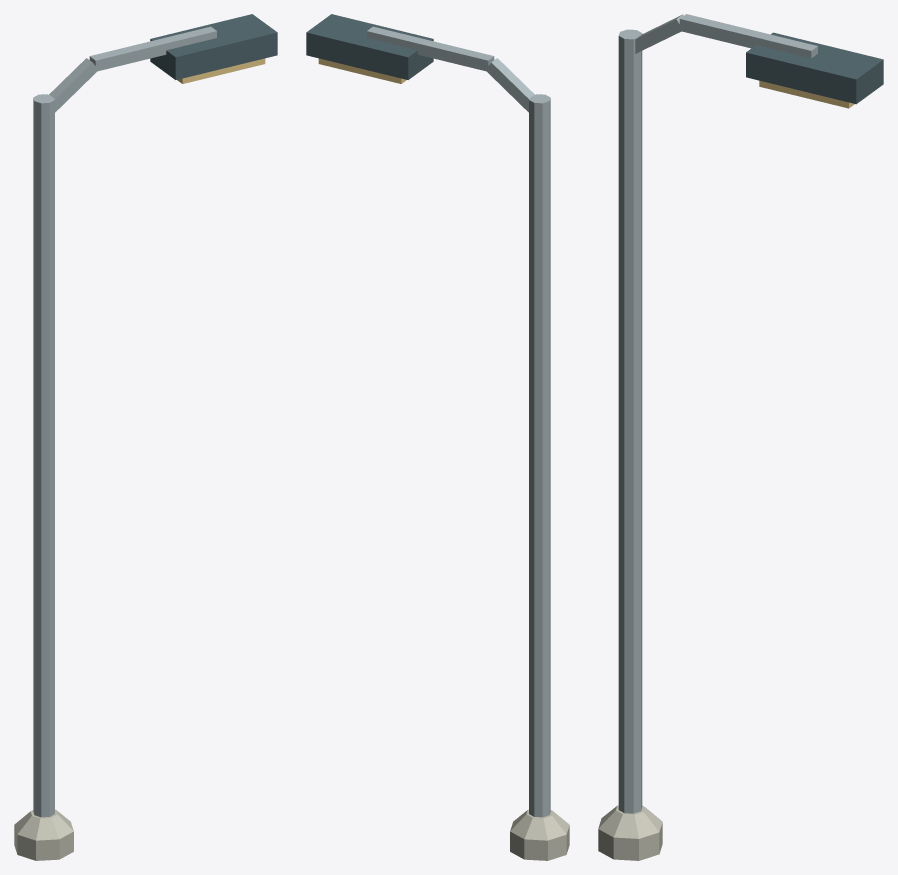
Rendered from KOL_HBR_PROP_02.fbx.
3 renders of one model, left to right at view 1: azimuth 30°, elevation 25°; view 2: azimuth 150°, elevation 25°; view 3: azimuth 330°, elevation 25°, orthographic. The views are drawn at different scales.
Parts seen in each view (by area): view 1: KOL_HBR_PROP_02__Model__Steel, KOL_HBR_PROP_02__Model__DarkSteel, KOL_HBR_PROP_02__Model__Concrete, KOL_HBR_PROP_02__Model__Lamp; view 2: KOL_HBR_PROP_02__Model__Steel, KOL_HBR_PROP_02__Model__DarkSteel, KOL_HBR_PROP_02__Model__Concrete, KOL_HBR_PROP_02__Model__Lamp; view 3: KOL_HBR_PROP_02__Model__Steel, KOL_HBR_PROP_02__Model__DarkSteel, KOL_HBR_PROP_02__Model__Concrete, KOL_HBR_PROP_02__Model__Lamp.
Boxes of the visible parts, box(x1,y1,x2,y2) form: KOL_HBR_PROP_02__Model__Steel: box(33, 26, 216, 817); KOL_HBR_PROP_02__Model__DarkSteel: box(150, 14, 277, 79); KOL_HBR_PROP_02__Model__Concrete: box(14, 809, 73, 860); KOL_HBR_PROP_02__Model__Lamp: box(177, 58, 265, 83); KOL_HBR_PROP_02__Model__Steel: box(367, 26, 550, 817); KOL_HBR_PROP_02__Model__DarkSteel: box(306, 14, 433, 79); KOL_HBR_PROP_02__Model__Concrete: box(510, 809, 569, 860); KOL_HBR_PROP_02__Model__Lamp: box(318, 58, 406, 83); KOL_HBR_PROP_02__Model__Steel: box(618, 14, 817, 813); KOL_HBR_PROP_02__Model__DarkSteel: box(746, 32, 883, 104); KOL_HBR_PROP_02__Model__Concrete: box(598, 805, 662, 860); KOL_HBR_PROP_02__Model__Lamp: box(759, 80, 854, 108).
Size of the model in its own units: 5.1 by 15.31 by 1.1.
